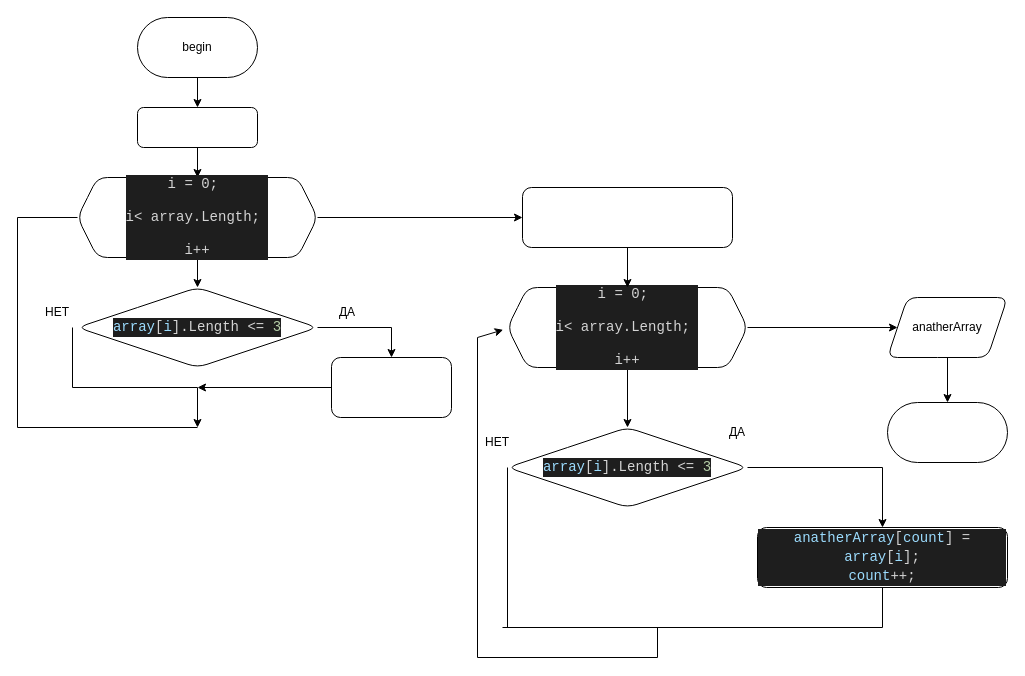
This 1025x676 diagram has some shape labels left out. The centre of each missing label's shape, as x and y in pixels:
"anatherArray = new string[count] count = 0" goes at [627,217].
"count = 0" goes at [197,127].
"count++" goes at [391,387].
"End" goes at [947,432].
